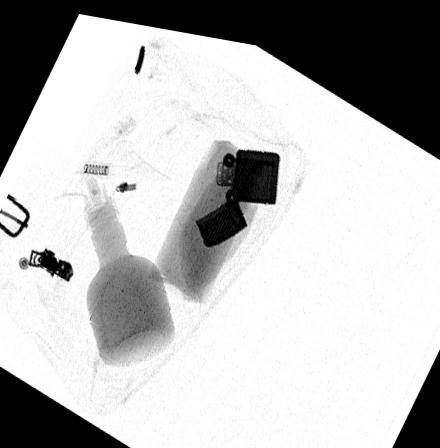Lighter: (194, 138, 281, 240)
